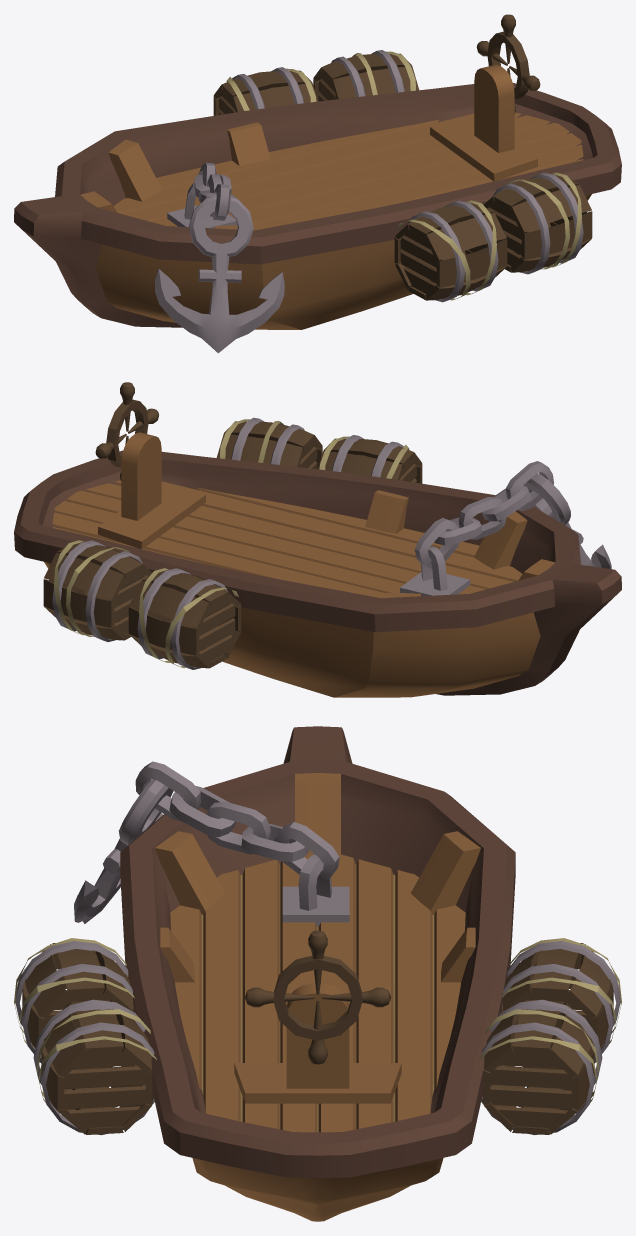
The model's file is Ship_Small.gltf.
The picture shows the model from 3 angles, top to bottom: view 1: azimuth 30°, elevation 25°; view 2: azimuth 150°, elevation 25°; view 3: azimuth 270°, elevation 25°; orthographic projection. The views are drawn at different scales.
Parts seen in each view (by area): view 1: Ship_Small; view 2: Ship_Small; view 3: Ship_Small.
Part boxes in pixels (left/top/right/bottom): Ship_Small: left=14, top=14, right=621, bottom=353; Ship_Small: left=14, top=382, right=621, bottom=697; Ship_Small: left=14, top=726, right=621, bottom=1221.
Bounding box in the file's own units: 5.15 × 1.99 × 3.6.
Materials: 1 (1 with a texture image).
